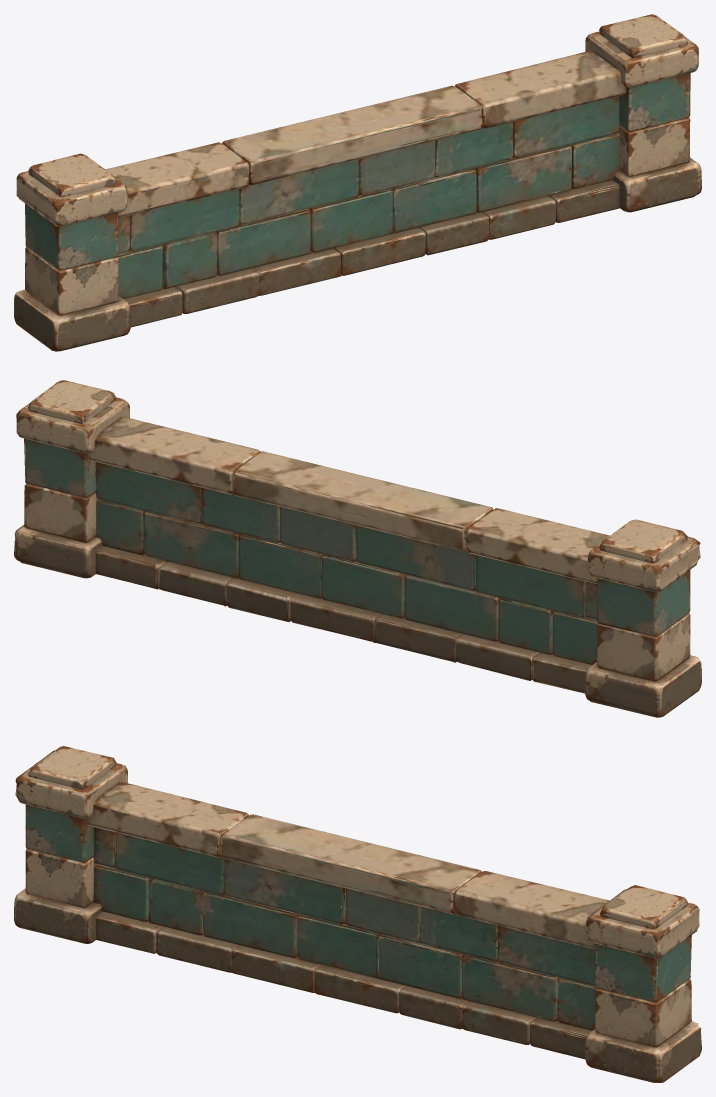
The model's file is town_wall.glb.
The picture shows the model from 3 angles, top to bottom: view 1: azimuth 30°, elevation 25°; view 2: azimuth 150°, elevation 25°; view 3: azimuth 330°, elevation 25°; orthographic projection.
Size of the model in its own units: 0.9507 by 0.2236 by 0.1084.
Materials: 1 (1 with a texture image).
